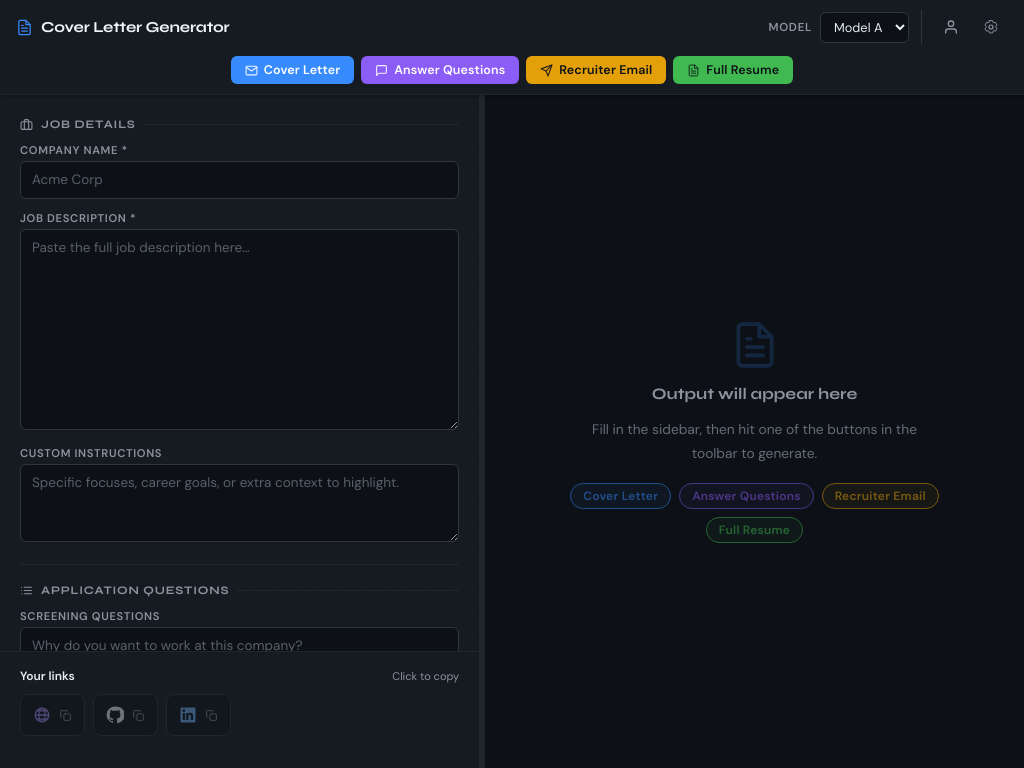
Test case: App AI workflows › stops Answer application questions without showing an error
Step 1. Type "Example Corp" into the field labelled "Company Name *" → (240, 180), box [20, 161, 459, 199]
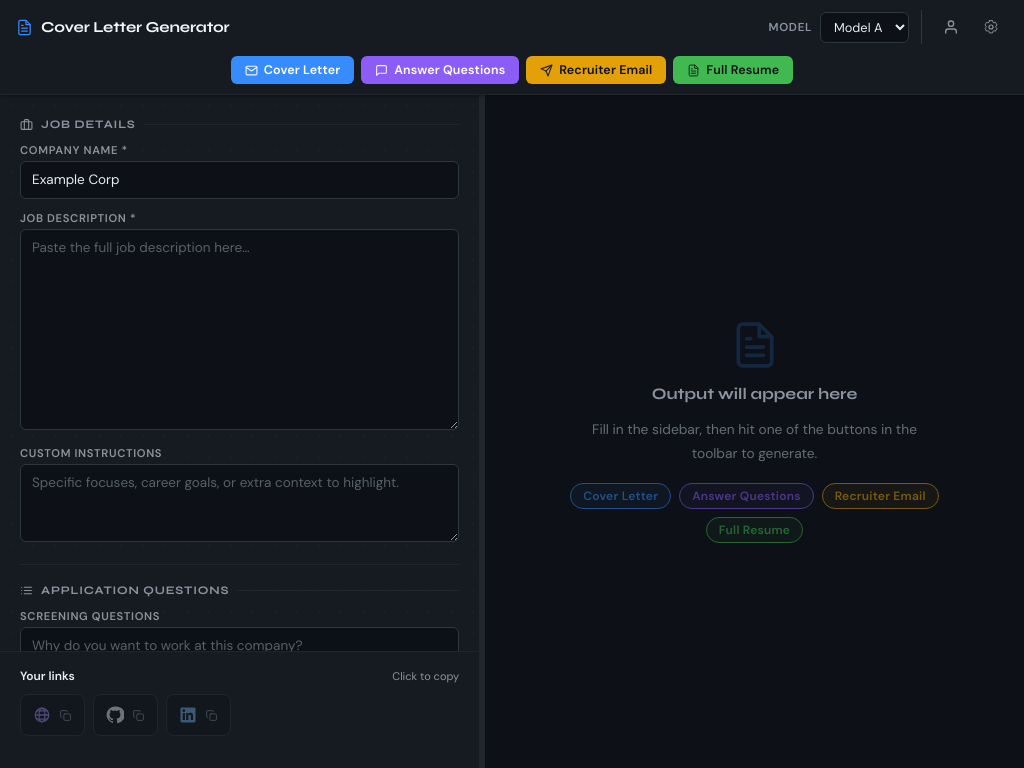
Step 2. Type "Build reliable AI systems." into the text box labelled "Job Description *" → (240, 329), box [20, 229, 459, 430]
(page scrolled)
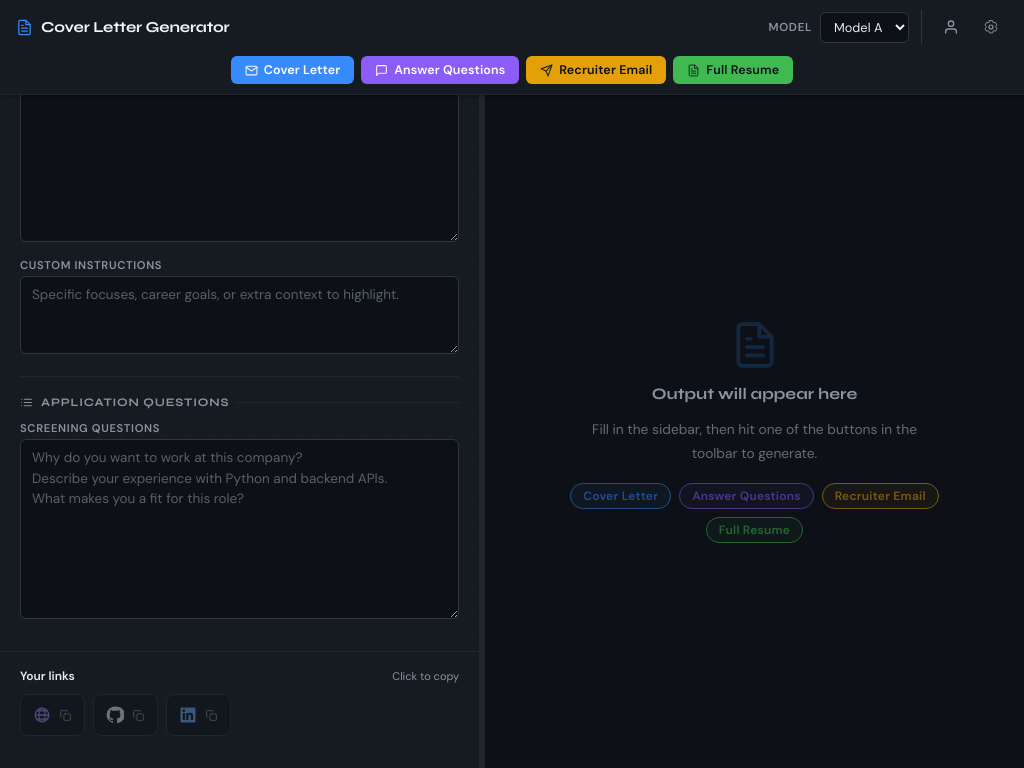
Step 3. Replace the text in the text box labelled "Screening Questions" with "Why this company?" → (240, 529), box [20, 439, 459, 619]
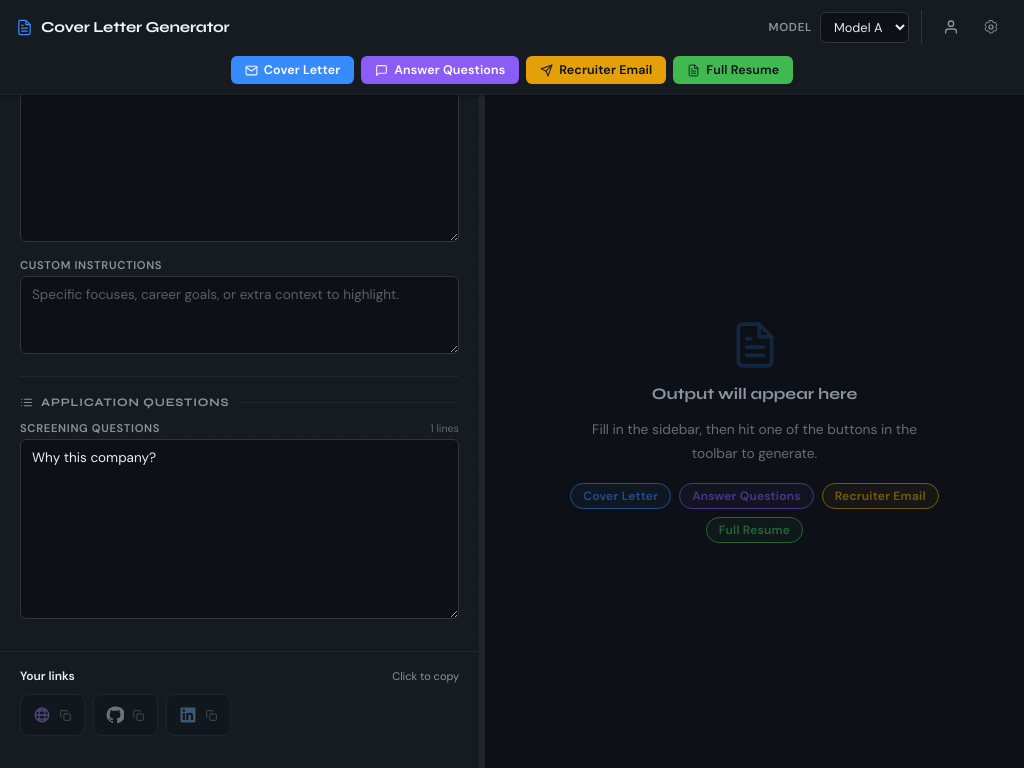
Step 4. Click the button titled "Answer application questions" → (440, 70), box [361, 56, 519, 84]
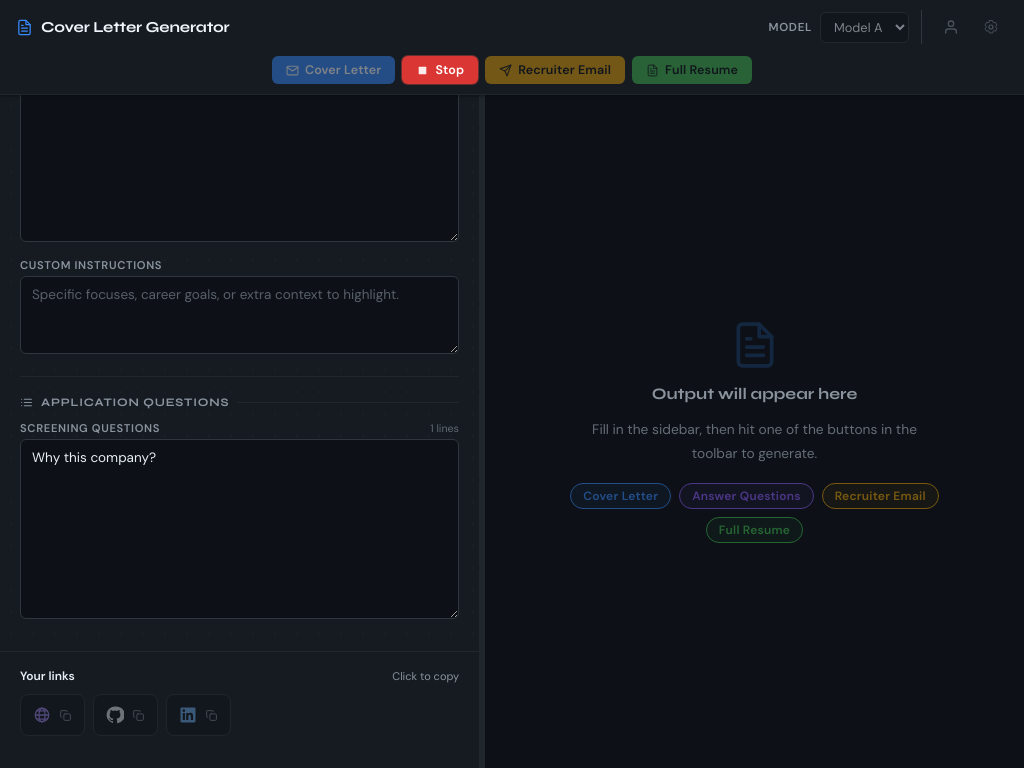
Now the button titled "Answer application questions" reads "Stop"
Now the dropdown with class "model-select-inline" is disabled, box [820, 12, 909, 42]
Step 5. Click the button titled "Answer application questions" → (440, 70), box [402, 56, 478, 84]
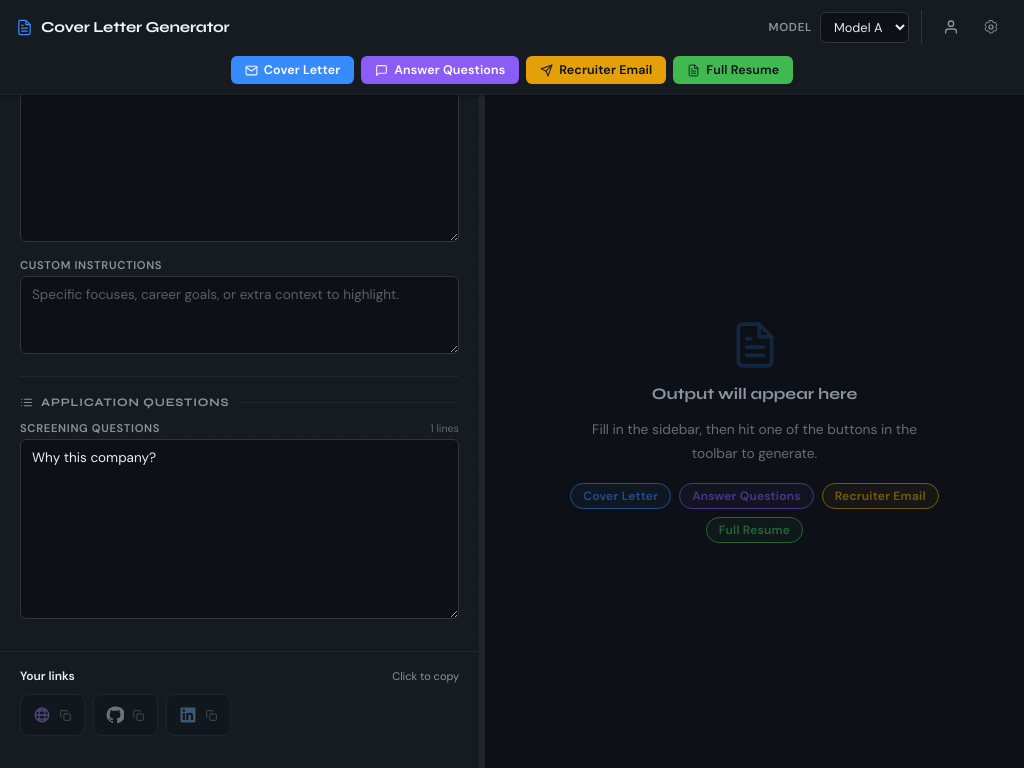
Now the dropdown with class "model-select-inline" is enabled, box [820, 12, 909, 42]
